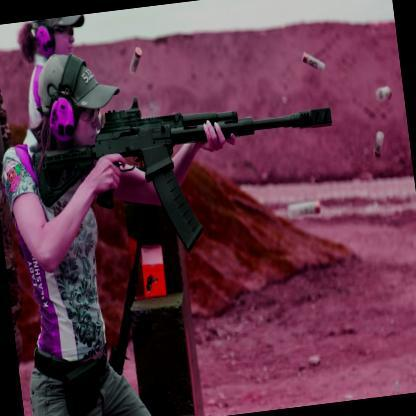rifle: (25, 78, 346, 270)
